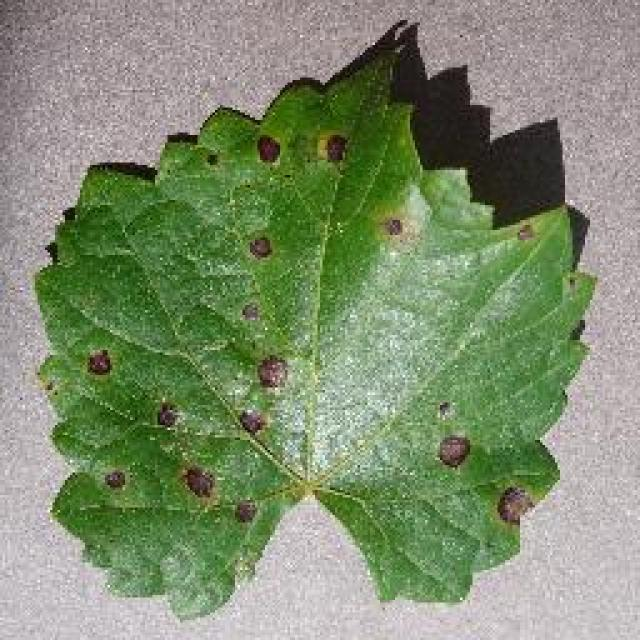Grape___Black_rot: (28, 43, 601, 634)
